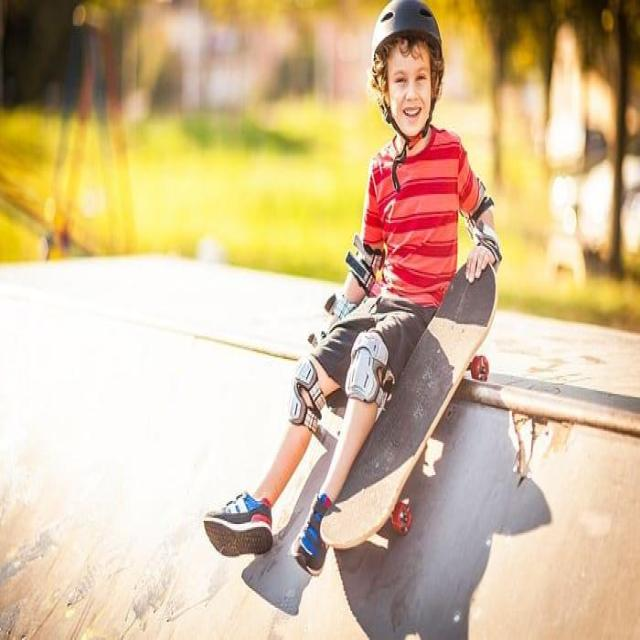Helmet: (373, 0, 444, 140)
